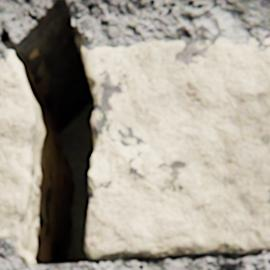broken_brick: (82, 39, 269, 261), (0, 53, 35, 249), (263, 39, 269, 45)
crack: (0, 1, 95, 268)
